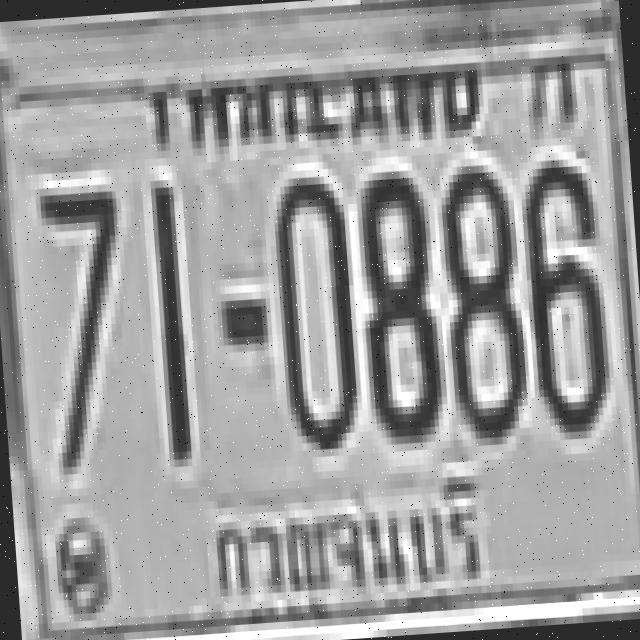0: (268, 168, 358, 444)
1: (148, 176, 189, 456)
6: (518, 150, 608, 427)
7: (34, 176, 129, 468)
8: (434, 156, 524, 440), (350, 162, 440, 438)
Kanchanaburi: (196, 462, 498, 618)
